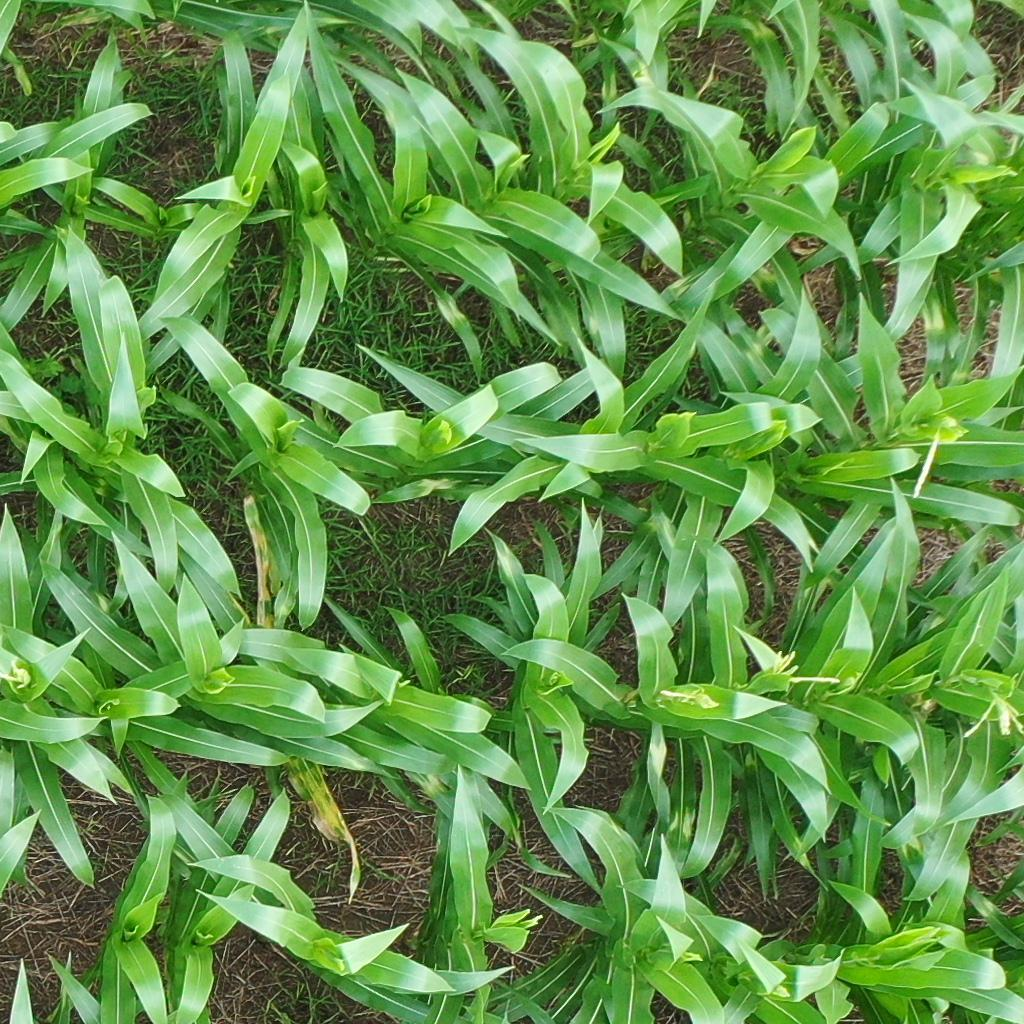Tassel: (913, 411, 958, 499), (759, 644, 840, 692), (960, 690, 1024, 743), (664, 687, 724, 712), (1, 659, 39, 692)
